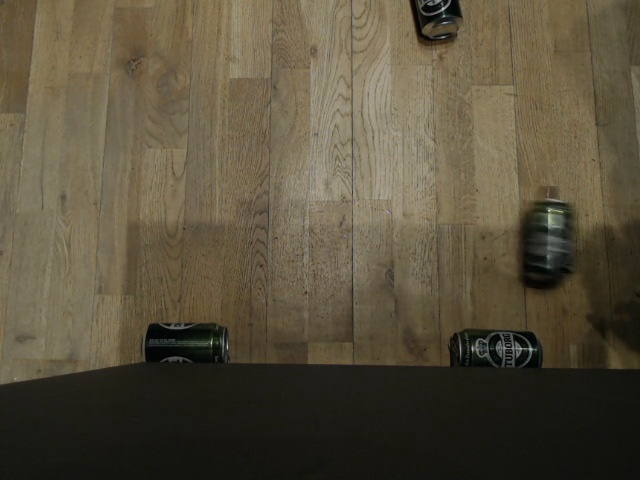beer: (524, 197, 570, 289), (140, 318, 230, 363), (448, 328, 545, 367), (409, 0, 462, 42)
